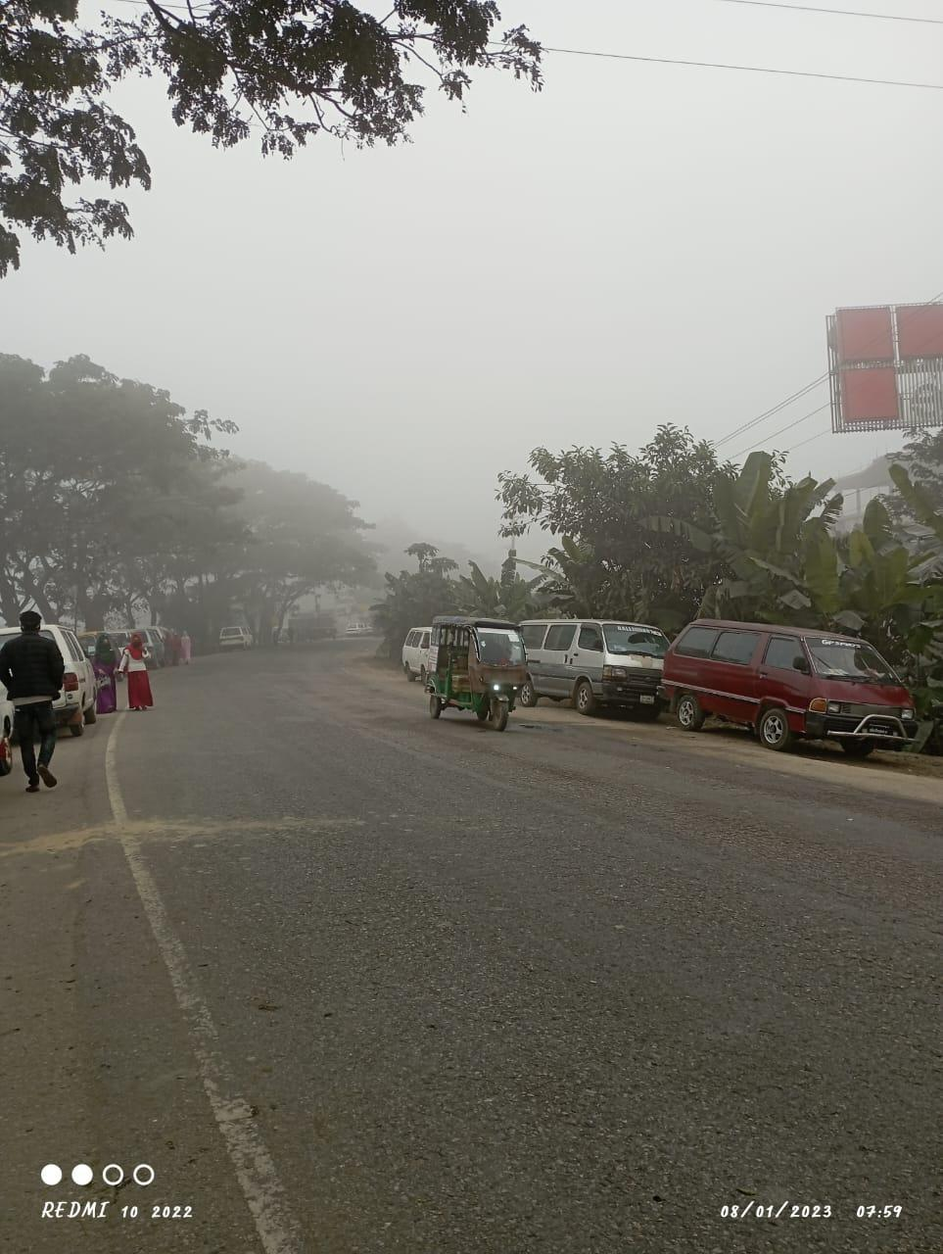Car: (656, 611, 918, 771), (513, 615, 660, 722), (417, 611, 537, 733), (6, 612, 111, 732), (212, 620, 251, 650)
